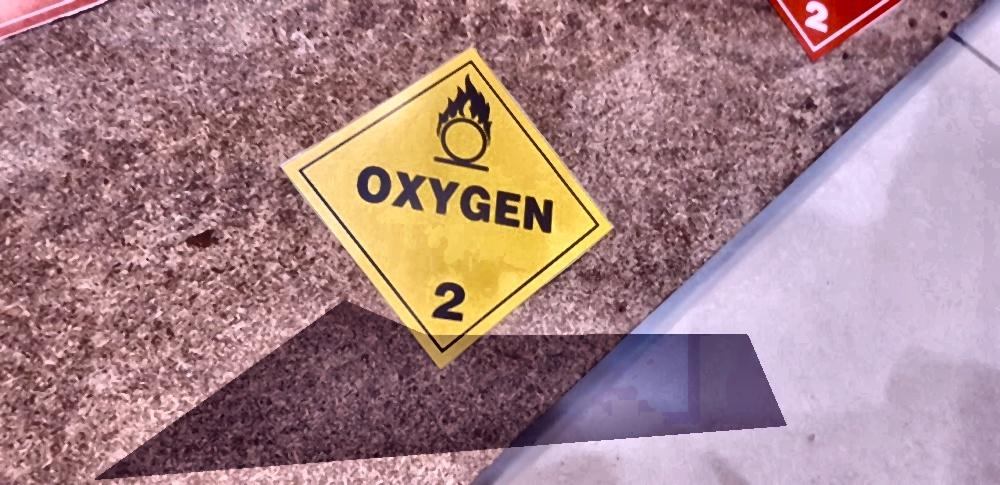oxidizer: (275, 45, 617, 369)
